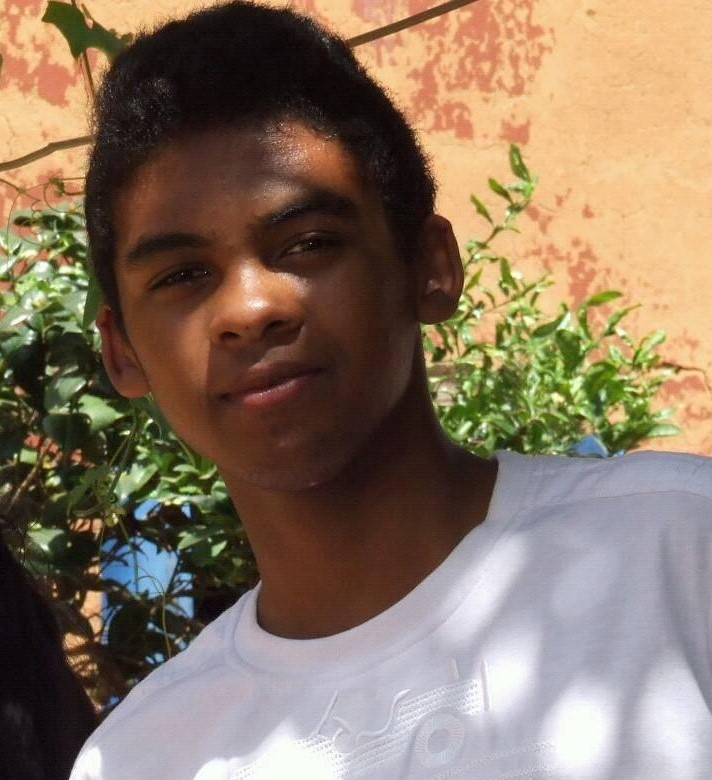BOY: (72, 1, 468, 482)
